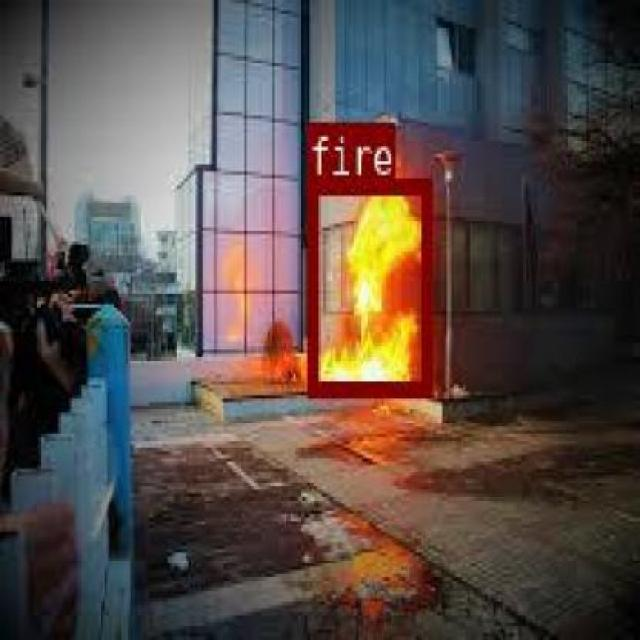Fire: (306, 176, 431, 392)
